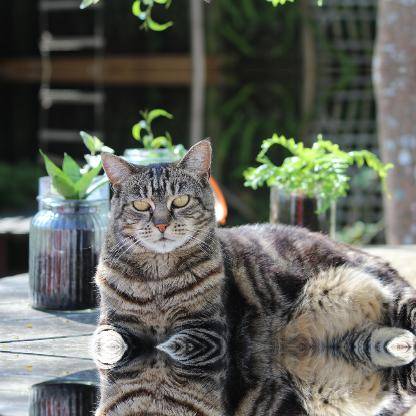Cat: (89, 135, 415, 345), (89, 347, 416, 415)
